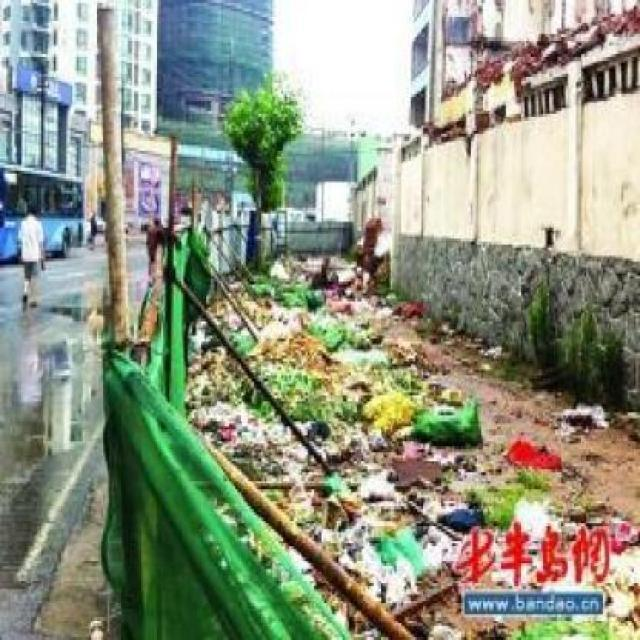garbage: (260, 435, 423, 600), (343, 373, 484, 450), (245, 302, 336, 413), (271, 252, 349, 304)
